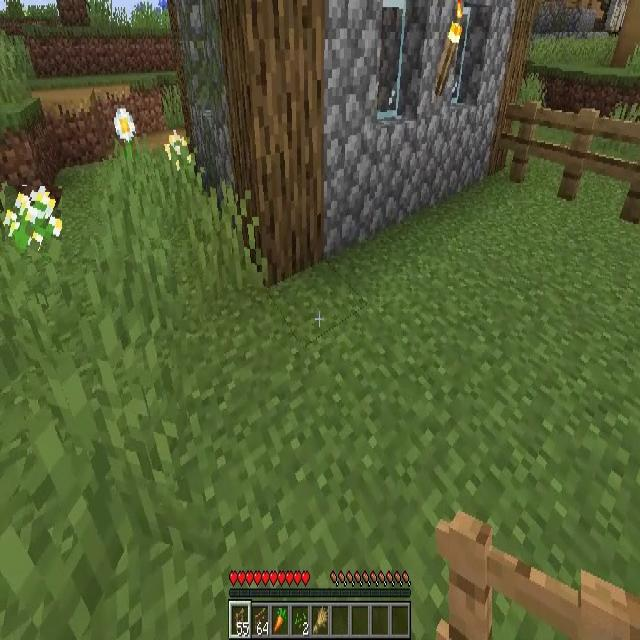flower: (5, 186, 62, 253), (164, 132, 192, 172), (113, 109, 136, 144)
